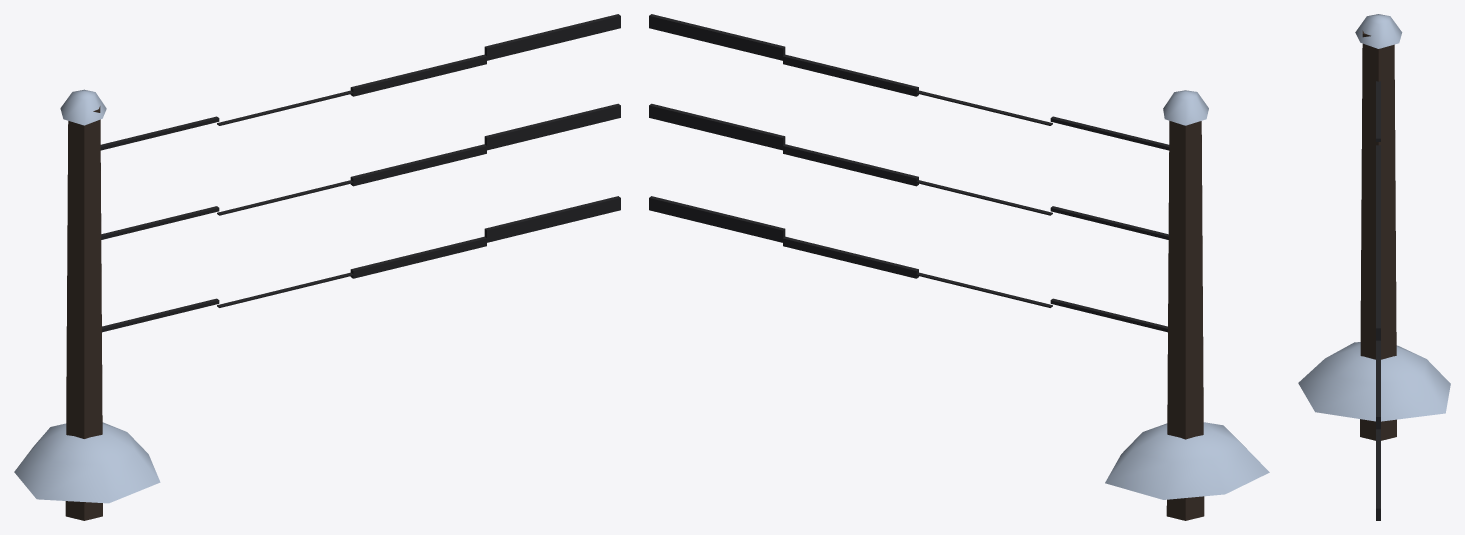
Rendered from fence_wire_2.glb.
3 views of the same model, side by side, from view 1: azimuth 30°, elevation 25°; view 2: azimuth 150°, elevation 25°; view 3: azimuth 270°, elevation 25° (orthographic).
Parts seen in each view (by area): view 1: Prop; view 2: Prop; view 3: Prop.
Part boxes in pixels (bbox=[...]): Prop: bbox=[14, 14, 620, 520]; Prop: bbox=[649, 14, 1269, 520]; Prop: bbox=[1298, 14, 1450, 520].
Bounding box in the file's own units: 2.25 × 1.5 × 0.4988.
